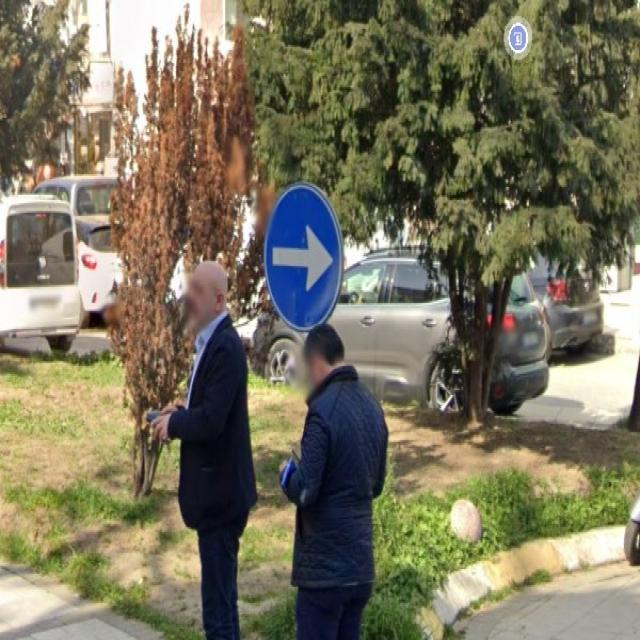Turn Right: (256, 186, 347, 324)
